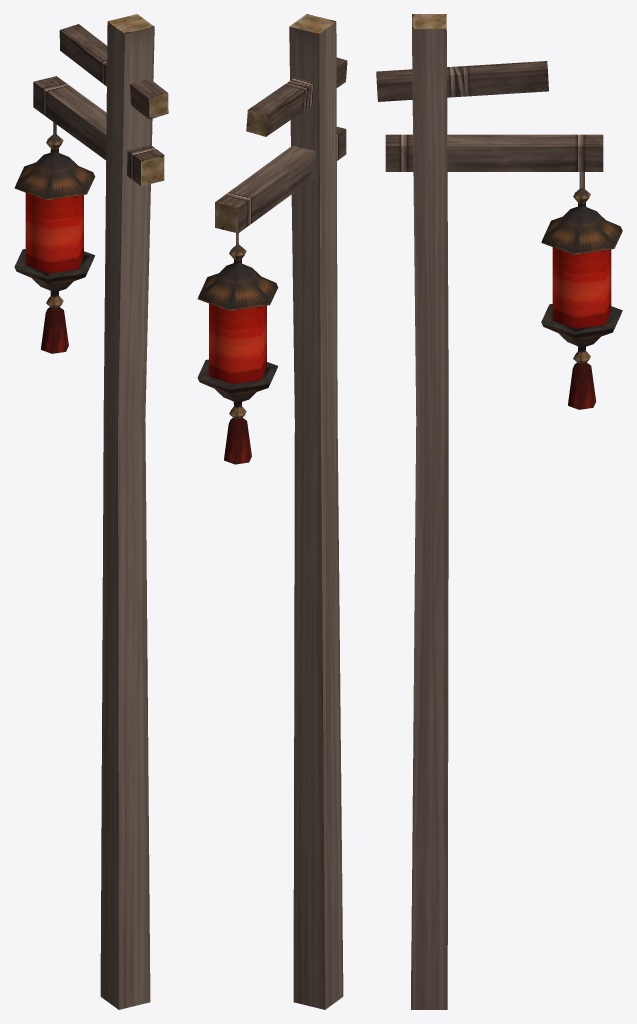
File: handan_field_a_r10.fbx
The picture shows the model from 3 angles, left to right: view 1: azimuth 30°, elevation 25°; view 2: azimuth 150°, elevation 25°; view 3: azimuth 270°, elevation 25°; orthographic projection.
Parts seen in each view (by area): view 1: handan_field_a_r10; view 2: handan_field_a_r10; view 3: handan_field_a_r10.
Part boxes in pixels (bbox=[...]): handan_field_a_r10: bbox=[14, 14, 168, 1009]; handan_field_a_r10: bbox=[197, 14, 347, 1009]; handan_field_a_r10: bbox=[376, 14, 622, 1009].
Bounding box in the file's own units: 31.98 × 410 × 93.07.
